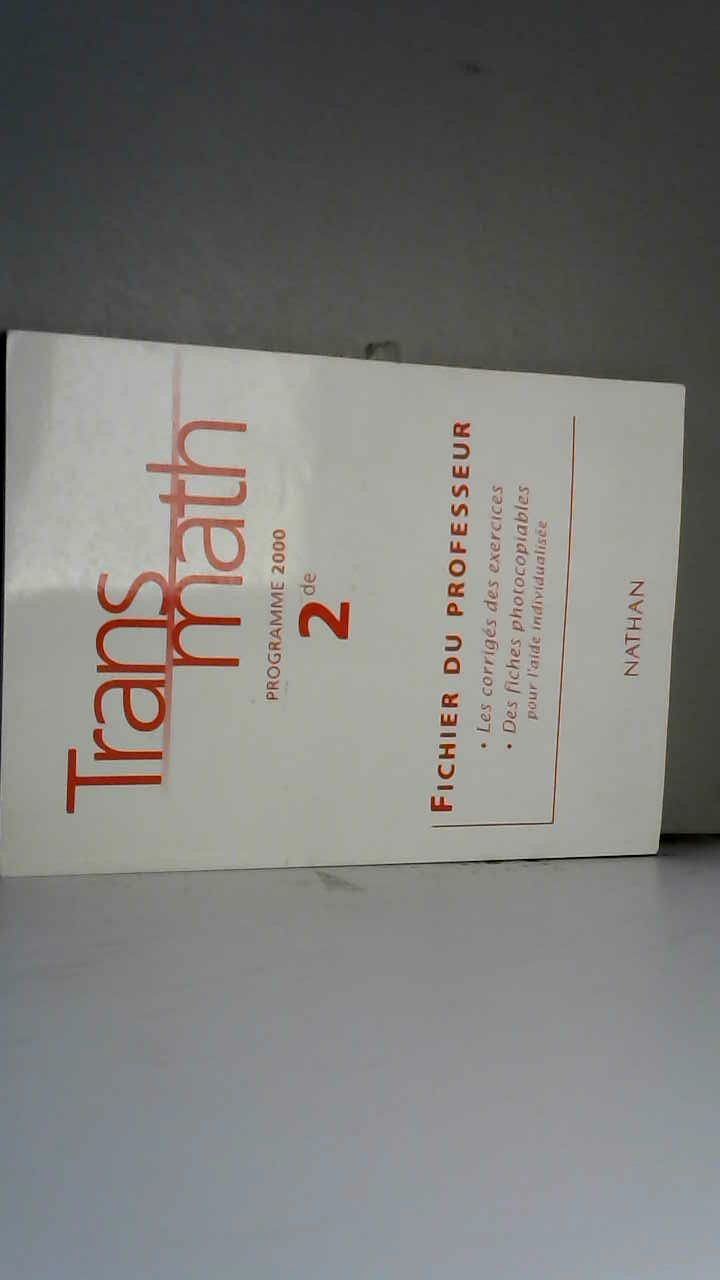book: (0, 316, 700, 889)
